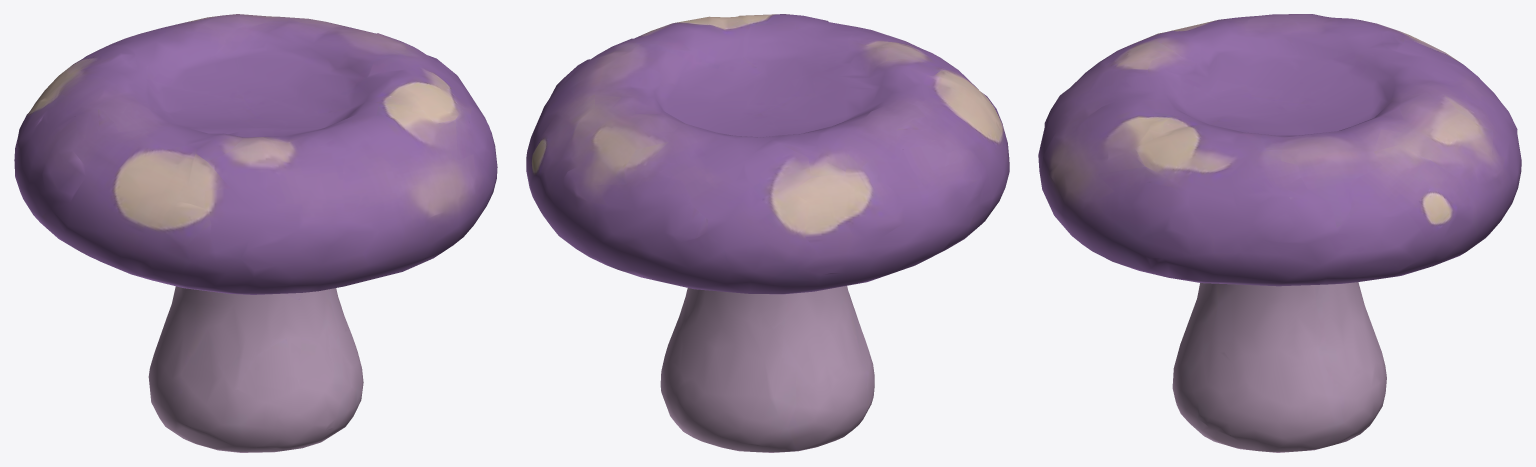
File: bounce-shroom.glb
The picture shows the model from 3 angles, left to right: view 1: azimuth 30°, elevation 25°; view 2: azimuth 150°, elevation 25°; view 3: azimuth 270°, elevation 25°; orthographic projection.
Visible parts, largest first — view 1: tripo_node_e782a271-5979-4e8f-b83b-3964c8b91a0d; view 2: tripo_node_e782a271-5979-4e8f-b83b-3964c8b91a0d; view 3: tripo_node_e782a271-5979-4e8f-b83b-3964c8b91a0d.
Part boxes in pixels (x1,y1,x2,y2): tripo_node_e782a271-5979-4e8f-b83b-3964c8b91a0d: (14,14,497,452); tripo_node_e782a271-5979-4e8f-b83b-3964c8b91a0d: (526,14,1009,452); tripo_node_e782a271-5979-4e8f-b83b-3964c8b91a0d: (1038,14,1521,452).
Size of the model in its own units: 0.9946 by 0.766 by 1.
1 material, 1 textured.
